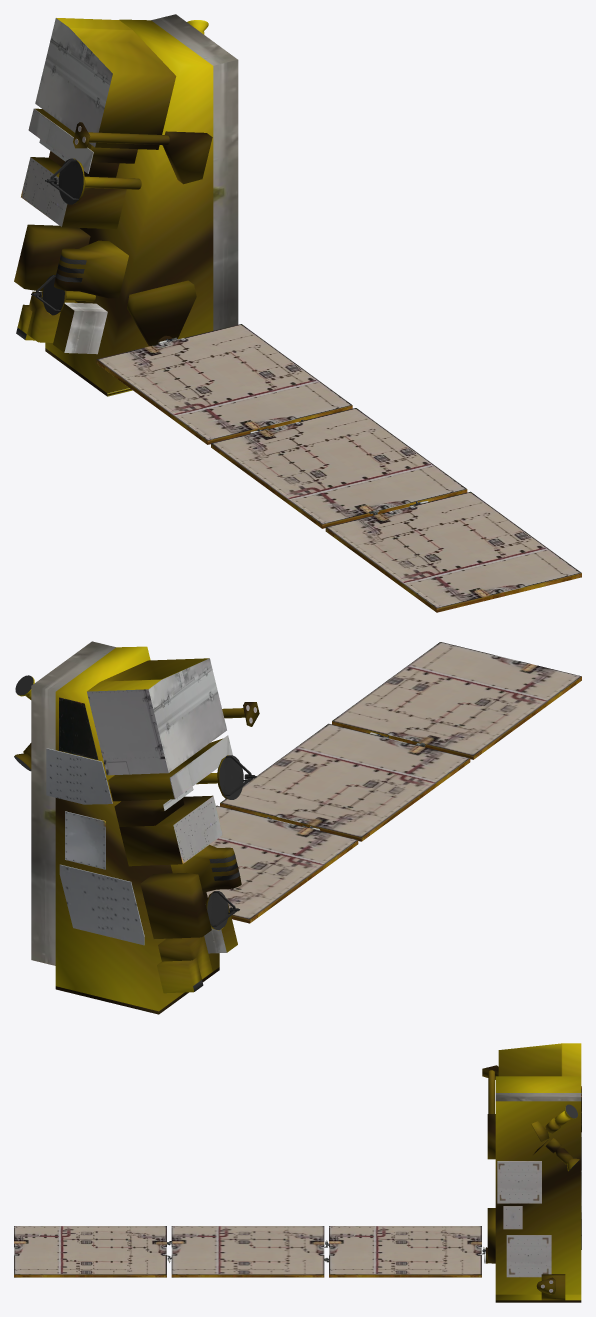
The model's file is npp.glb.
3 views of the same model, one above another, from view 1: azimuth 30°, elevation 25°; view 2: azimuth 150°, elevation 25°; view 3: azimuth 270°, elevation 25° (orthographic). The views are drawn at different scales.
Visible parts, largest first — view 1: shiny_panel, foil_gold, tex_02, AO_01; view 2: shiny_panel, foil_gold, tex_02, AO_01, foil_silver; view 3: shiny_panel, foil_gold, tex_02.
Boxes of the visible parts, <box> form: shiny_panel: <box>74,126,581,612</box>; foil_gold: <box>14,18,213,396</box>; tex_02: <box>21,14,238,354</box>; AO_01: <box>31,158,83,315</box>; shiny_panel: <box>46,642,581,945</box>; foil_gold: <box>15,646,259,1014</box>; tex_02: <box>31,641,232,965</box>; AO_01: <box>14,675,256,929</box>; foil_silver: <box>193,854,239,991</box>; shiny_panel: <box>14,1132,581,1292</box>; foil_gold: <box>482,1043,581,1302</box>; tex_02: <box>495,1086,581,1132</box>.
Bounding box in the file's own units: 2.57 × 4.18 × 8.96.
5 materials, 5 textured.
